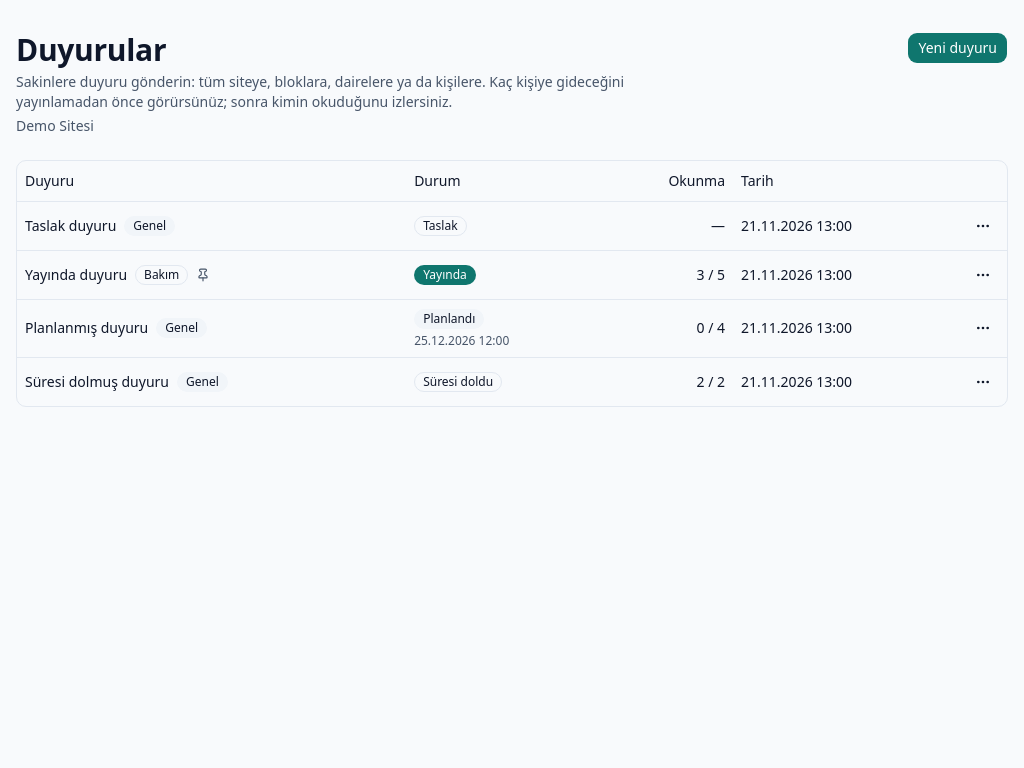
Test: Duyurular (admin): the list › shows the database answer when publishing fails
Click the button named "“Taslak duyuru” için işlemler".
click(983, 226)  # box [967,210,999,242]
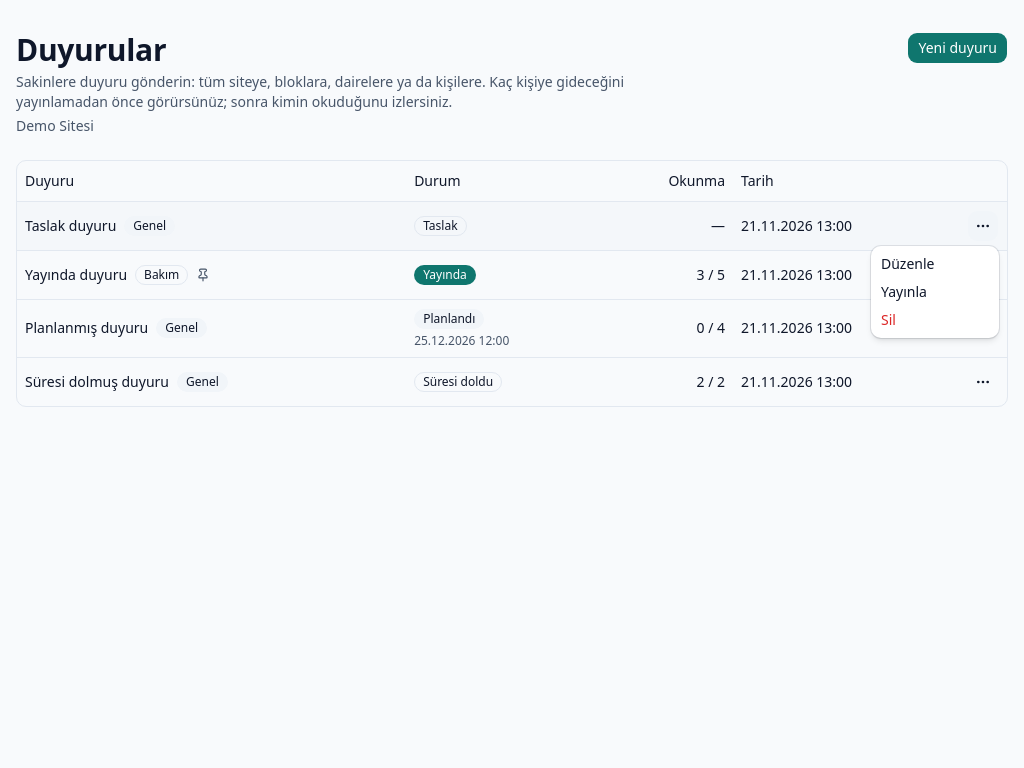
Click the menu item "Yayınla".
click(904, 292)  # box [881,282,927,301]
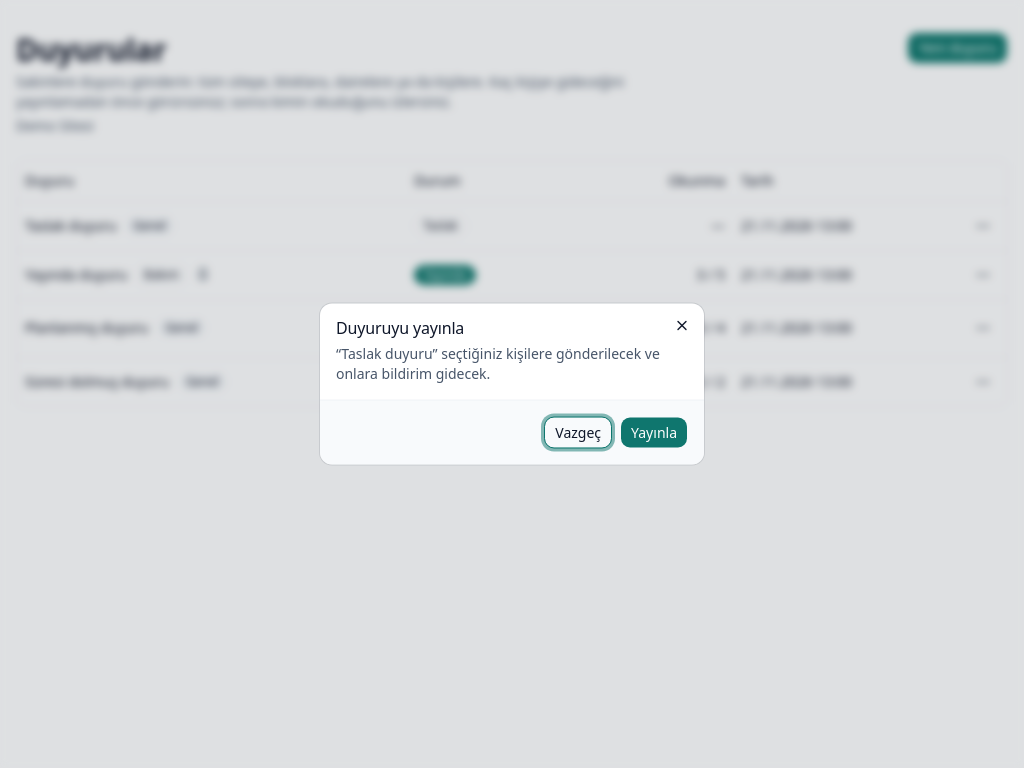
Click the button "Yayınla".
click(654, 432)  # box [620,416,688,448]
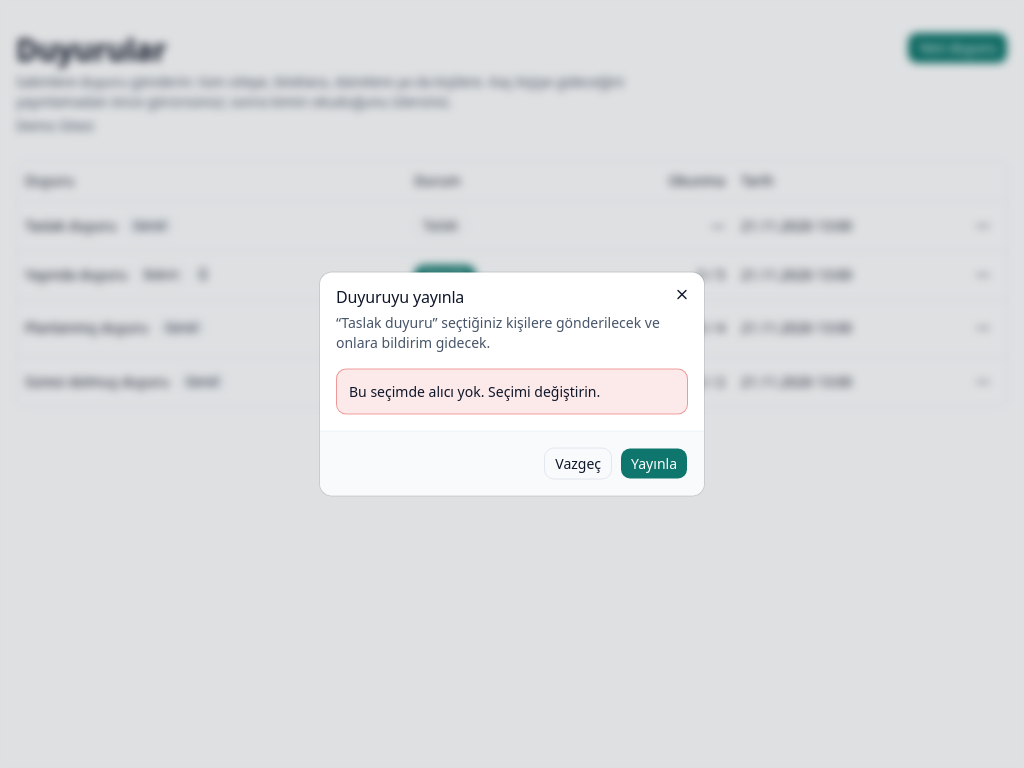
Result: the text "Bu seçimde alıcı yok. Seçimi değiştirin." is shown at [336,368,688,414]
